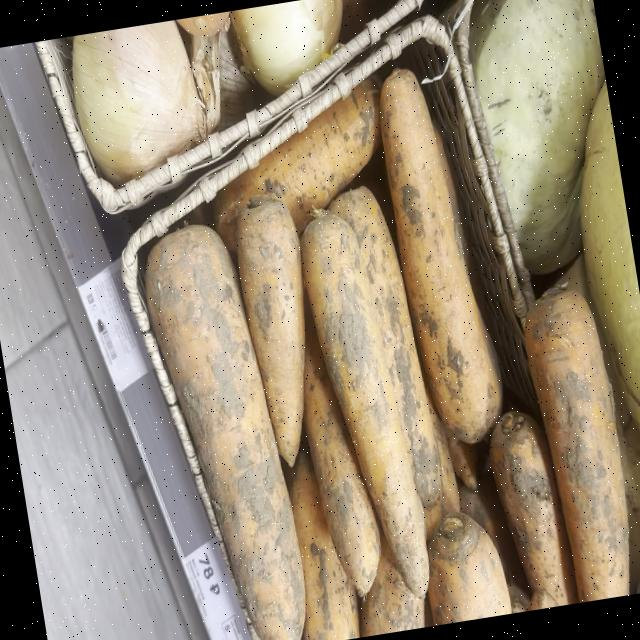carrot: (144, 224, 305, 640), (299, 210, 428, 599), (379, 68, 501, 444), (328, 186, 442, 540), (523, 284, 629, 603), (213, 78, 379, 250), (303, 289, 380, 599), (234, 197, 304, 466), (488, 410, 577, 606), (288, 435, 359, 640), (426, 512, 510, 625), (360, 534, 424, 637)
